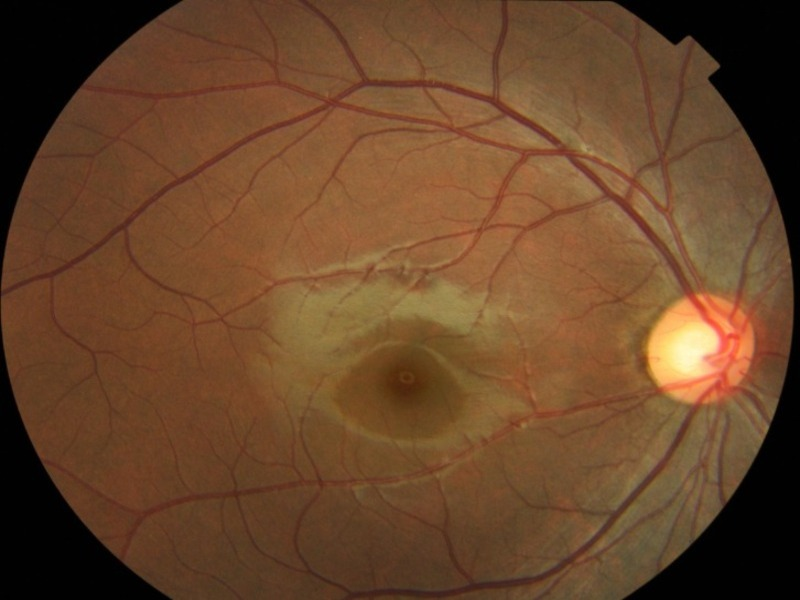Optic Cup: (668, 323, 716, 368)
Optic Disc: (643, 296, 755, 402)
